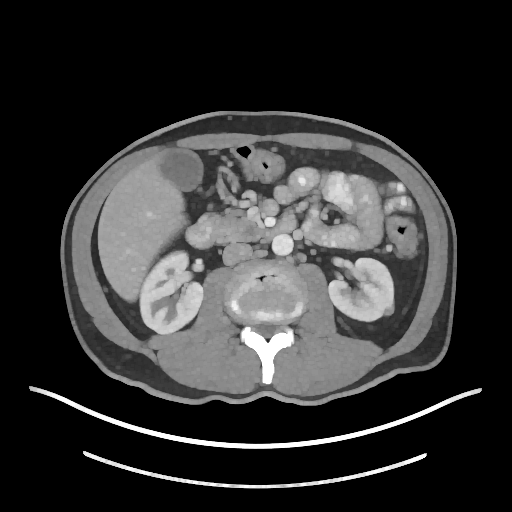Lesion: (382, 301, 398, 321)
